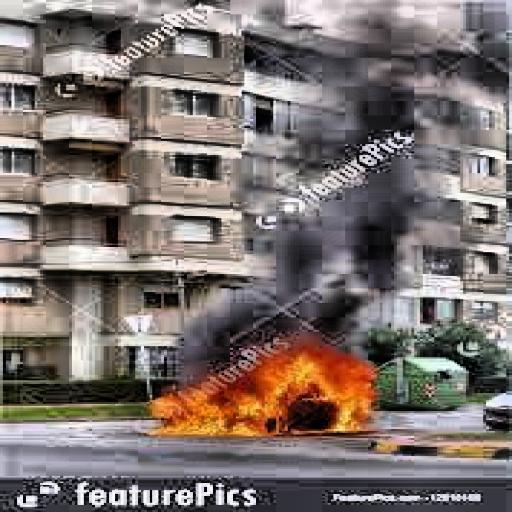fire: (141, 333, 391, 440)
